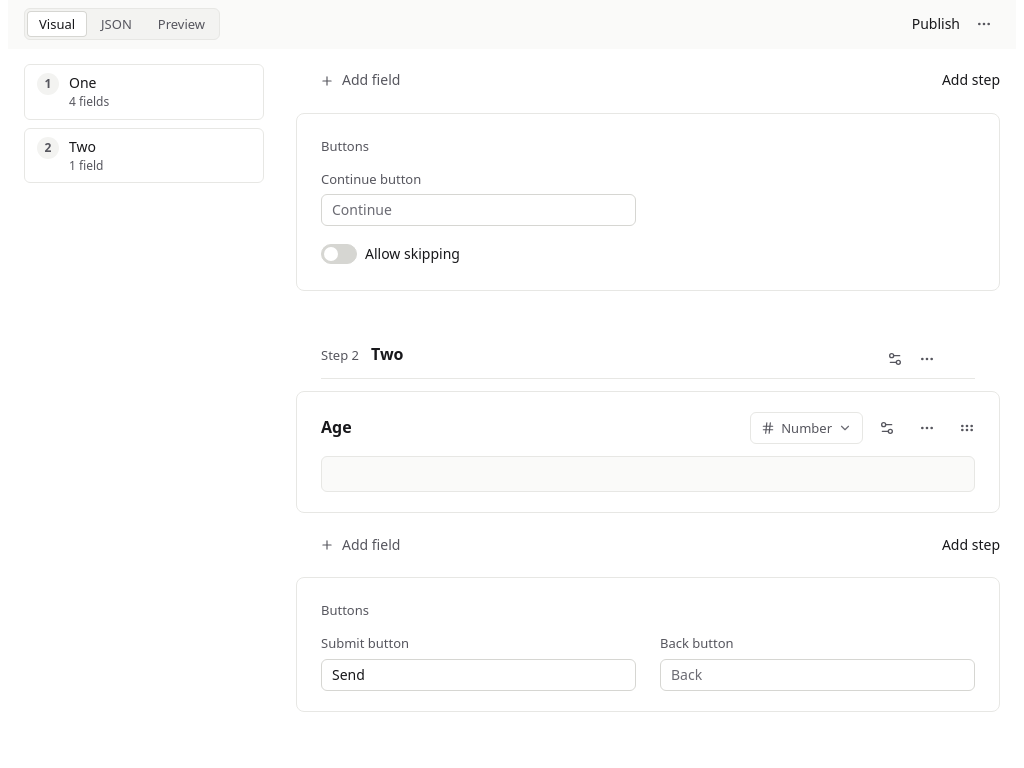
Test: overlays inherit the editor font on a serif host page › uses the editor font in the field picker at 1280
This screenshot has width=1024, height=768.
(page scrolled)
Click the 2nd button "Add field" at (371, 545), box [296,525,934,565]
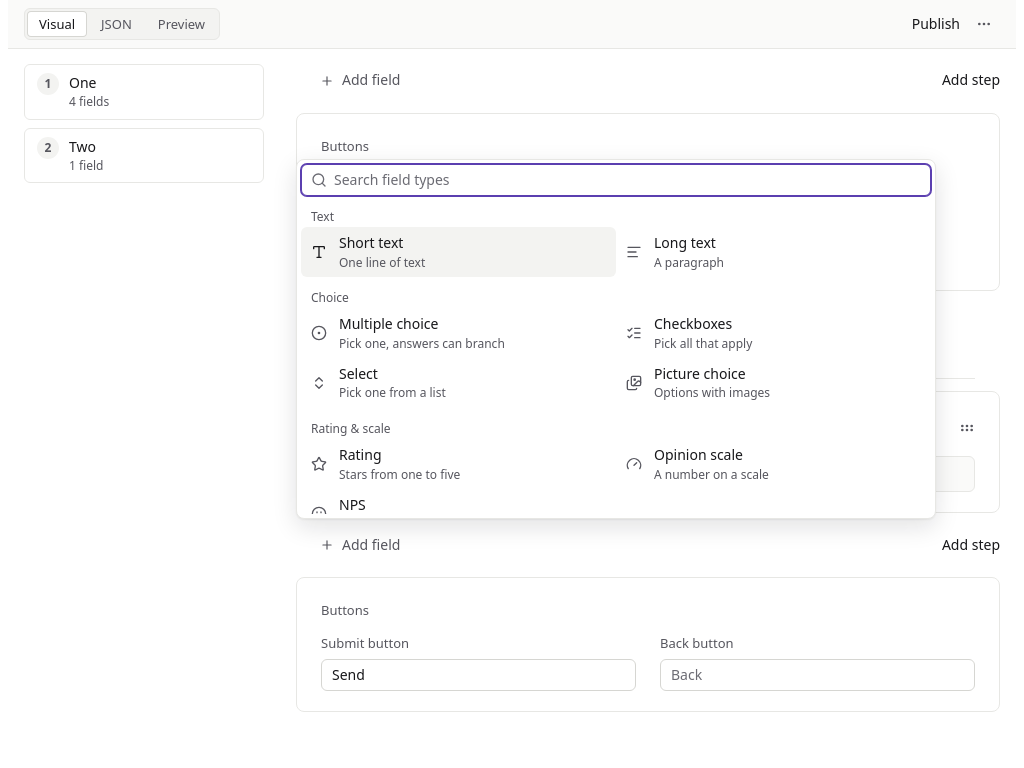
Expected: the dialog is shown, [296,159,936,519]
